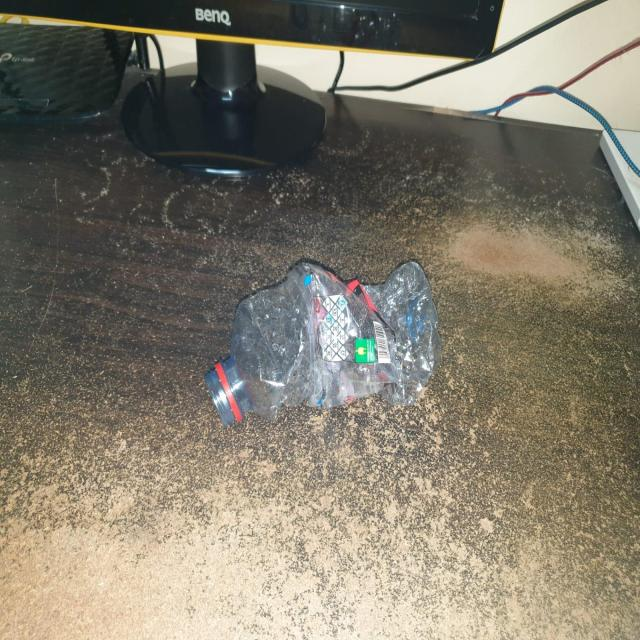bottle: (202, 255, 442, 439)
